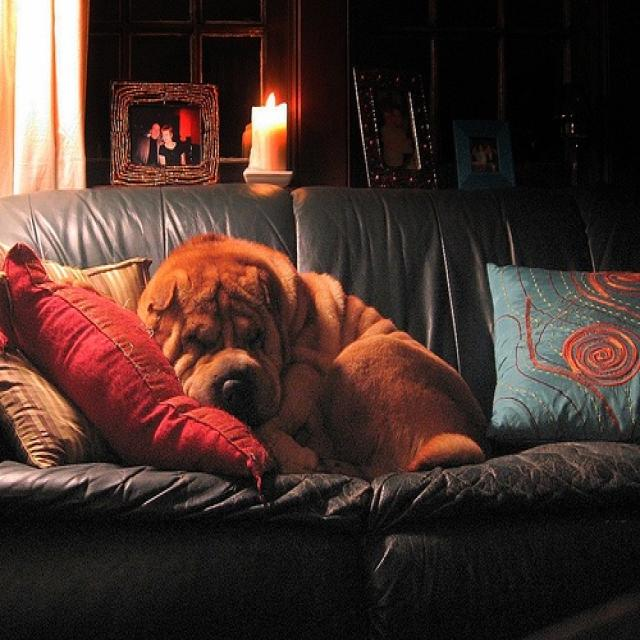dog: (135, 232, 492, 478)
sofa: (1, 179, 639, 638)
